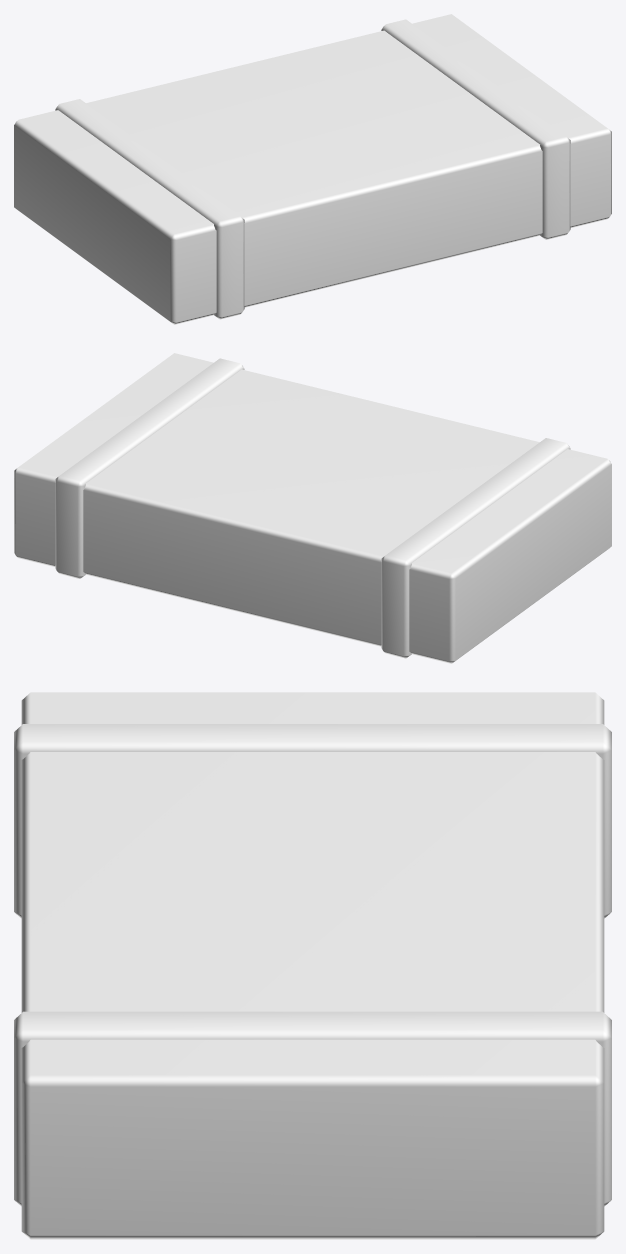
Rendered from chest_lid.glb.
3 renders of one model, top to bottom at view 1: azimuth 30°, elevation 25°; view 2: azimuth 150°, elevation 25°; view 3: azimuth 270°, elevation 25°, orthographic. The views are drawn at different scales.
Visible parts, largest first — view 1: ChestLid; view 2: ChestLid; view 3: ChestLid.
Boxes of the visible parts, x1,y1,x2,y2 form: ChestLid: [14, 14, 611, 324]; ChestLid: [14, 353, 611, 663]; ChestLid: [14, 692, 611, 1239].
Bounding box in the file's own units: 1.22 × 0.26 × 0.79.
Materials: 1 (1 with a texture image).
